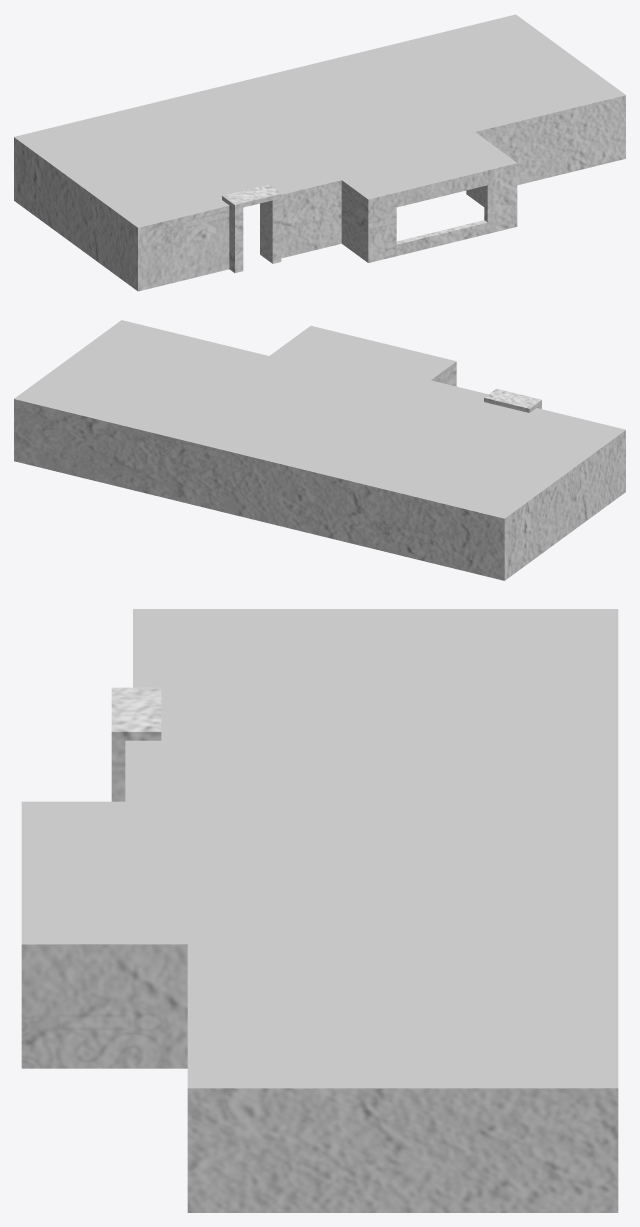
File: house.obj
The picture shows the model from 3 angles, top to bottom: view 1: azimuth 30°, elevation 25°; view 2: azimuth 150°, elevation 25°; view 3: azimuth 270°, elevation 25°; orthographic projection. The views are drawn at different scales.
Parts seen in each view (by area): view 1: House_Plane.001; view 2: House_Plane.001; view 3: House_Plane.001.
Boxes of the visible parts, bbox=[...] form: House_Plane.001: bbox=[14, 14, 625, 291]; House_Plane.001: bbox=[14, 320, 625, 580]; House_Plane.001: bbox=[21, 609, 618, 1212].
Size of the model in its own units: 45.66 by 5.93 by 24.04.
